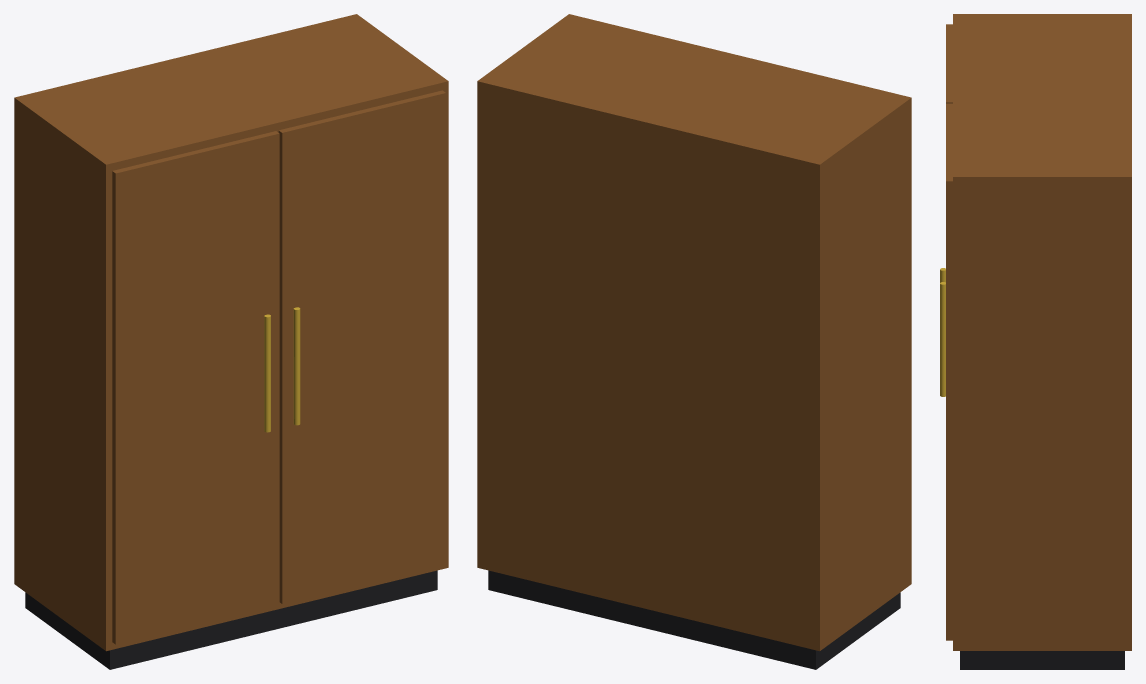
File: wardrobe.glb
3 views of the same model, side by side, from view 1: azimuth 30°, elevation 25°; view 2: azimuth 150°, elevation 25°; view 3: azimuth 270°, elevation 25° (orthographic). The views are drawn at different scales.
Parts seen in each view (by area): view 1: wardrobe_body, accessory_door_left, accessory_door_right, Wardrobe, accessory_handle_right, accessory_handle_left; view 2: wardrobe_body, Wardrobe; view 3: wardrobe_body, accessory_door_right, Wardrobe, accessory_handle_right, accessory_door_left.
Part boxes in pixels (left/top/right/bottom): wardrobe_body: left=14, top=14, right=448, bottom=651; accessory_door_left: left=112, top=131, right=279, bottom=644; accessory_door_right: left=278, top=90, right=445, bottom=603; Wardrobe: left=25, top=570, right=437, bottom=669; accessory_handle_right: left=293, top=307, right=300, bottom=425; accessory_handle_left: left=264, top=314, right=270, bottom=432; wardrobe_body: left=477, top=14, right=911, bottom=651; Wardrobe: left=488, top=570, right=900, bottom=669; wardrobe_body: left=953, top=14, right=1131, bottom=650; accessory_door_right: left=946, top=103, right=952, bottom=640; Wardrobe: left=960, top=651, right=1124, bottom=669; accessory_handle_right: left=940, top=282, right=945, bottom=396; accessory_door_left: left=946, top=24, right=952, bottom=103.
Bounding box in the file's own units: 1.4 × 1.99 × 0.697.
